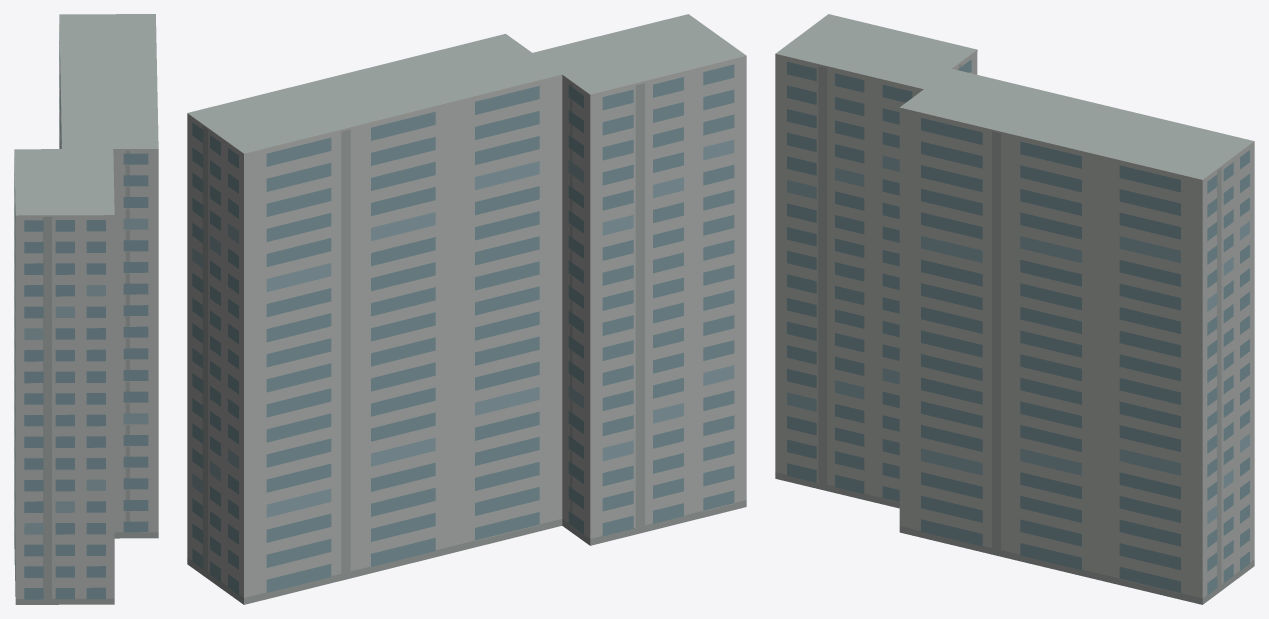
File: residential-206663eb-9961-463d-a578-3eaba09717fe.glb
3 renders of one model, left to right at view 1: azimuth 30°, elevation 25°; view 2: azimuth 150°, elevation 25°; view 3: azimuth 270°, elevation 25°, orthographic. The views are drawn at different scales.
Parts seen in each view (by area): view 1: residential-206663eb-9961-463d-a578-3eaba09717fe.tmp; view 2: residential-206663eb-9961-463d-a578-3eaba09717fe.tmp; view 3: residential-206663eb-9961-463d-a578-3eaba09717fe.tmp.
Part boxes in pixels (x1=…): residential-206663eb-9961-463d-a578-3eaba09717fe.tmp: x1=14, y1=14, x2=158, y2=604; residential-206663eb-9961-463d-a578-3eaba09717fe.tmp: x1=187, y1=14, x2=746, y2=604; residential-206663eb-9961-463d-a578-3eaba09717fe.tmp: x1=775, y1=14, x2=1254, y2=604.
Bounding box in the file's own units: 45.97 × 54.9 × 56.1.
